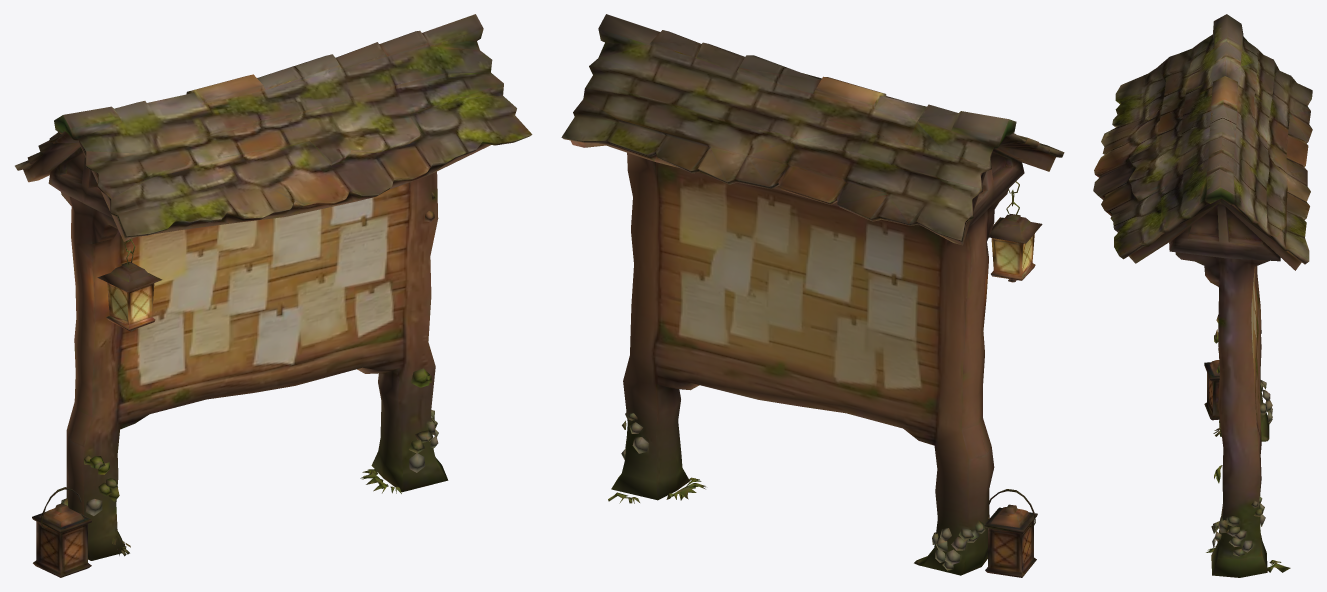
The model's file is civic_town_board.glb.
3 views of the same model, side by side, from view 1: azimuth 30°, elevation 25°; view 2: azimuth 150°, elevation 25°; view 3: azimuth 270°, elevation 25° (orthographic). The views are drawn at different scales.
Visible parts, largest first — view 1: tripo_node_19dde4bb-17de-41a4-ad22-18f3b6fe8127; view 2: tripo_node_19dde4bb-17de-41a4-ad22-18f3b6fe8127; view 3: tripo_node_19dde4bb-17de-41a4-ad22-18f3b6fe8127.
Boxes of the visible parts, x1,y1,x2,y2 form: tripo_node_19dde4bb-17de-41a4-ad22-18f3b6fe8127: (15, 14, 532, 577); tripo_node_19dde4bb-17de-41a4-ad22-18f3b6fe8127: (561, 14, 1064, 577); tripo_node_19dde4bb-17de-41a4-ad22-18f3b6fe8127: (1093, 14, 1312, 577).
Size of the model in its own units: 3.19 by 3.2 by 1.58.
1 material, 1 textured.
